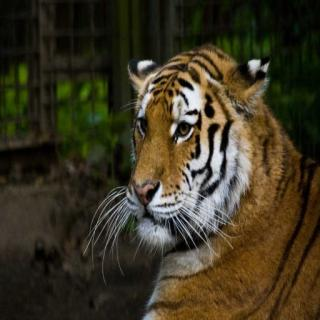Tiger: (80, 32, 320, 320)
